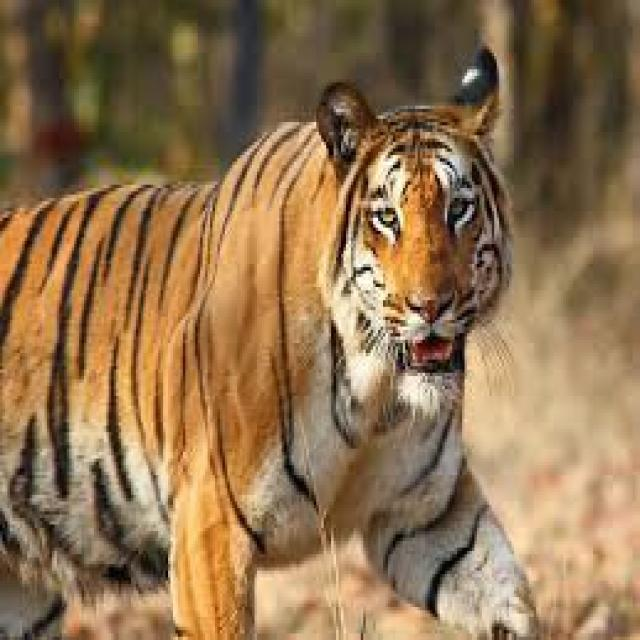Tiger: (0, 39, 541, 636)
